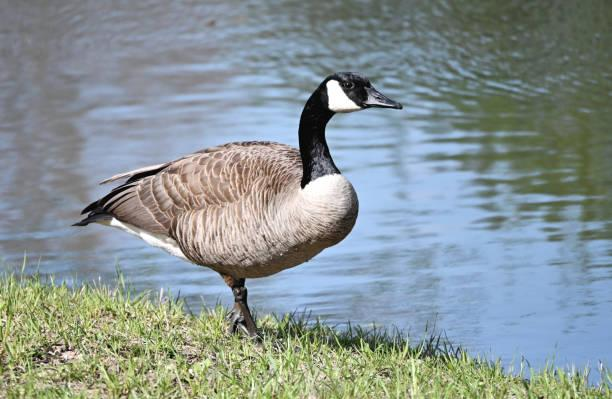Canadian-Goose: (79, 70, 404, 335)
